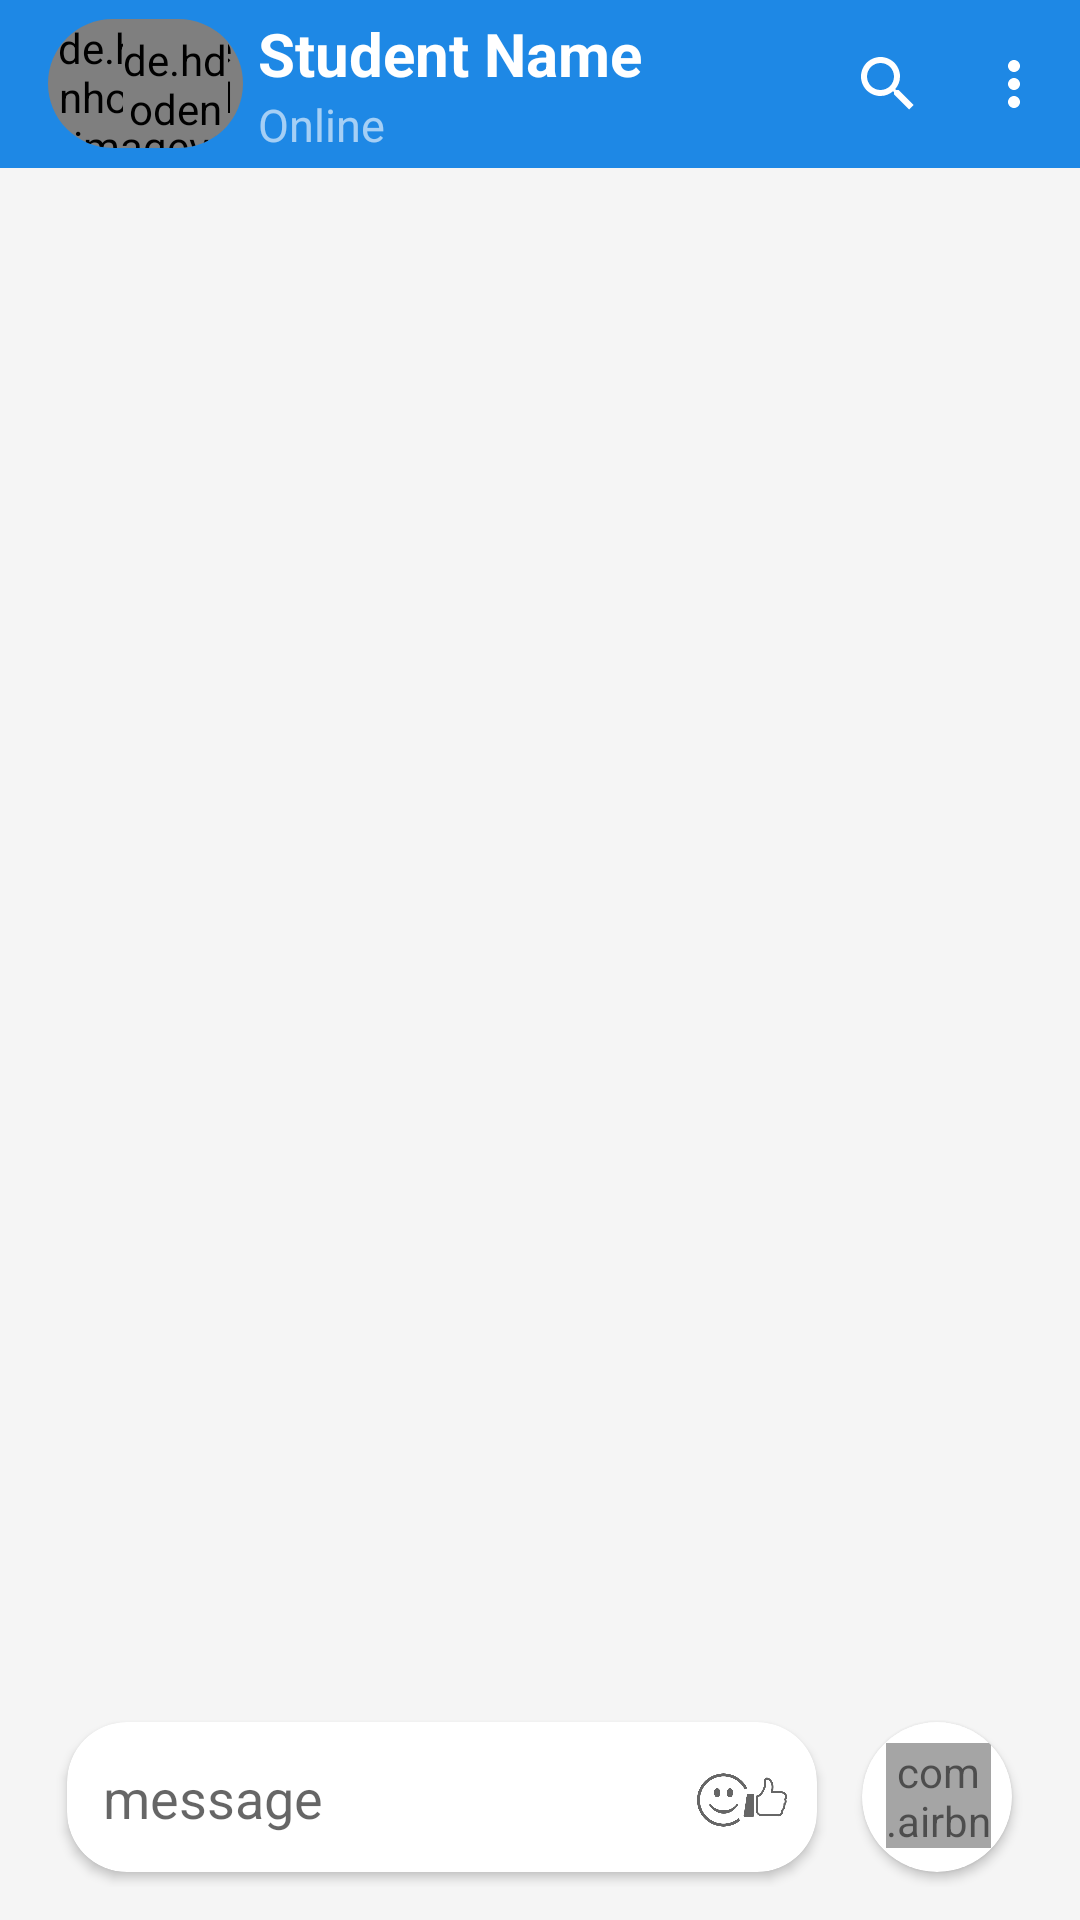

Icons on this 1080px×1920px Android screen, each with its box as (x1, y1, x2, y2):
emoji: (697, 1773, 787, 1827)
